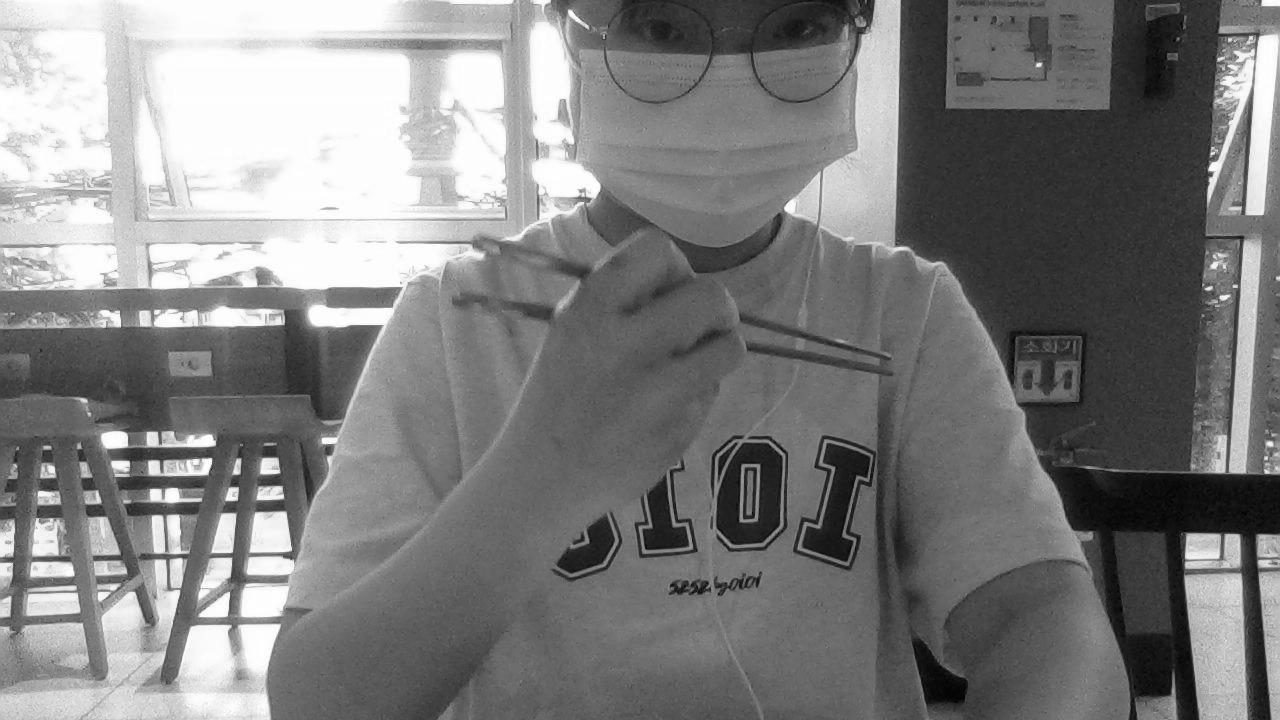chopstick: (467, 233, 896, 363), (451, 291, 896, 376)
hand: (506, 232, 749, 520)
